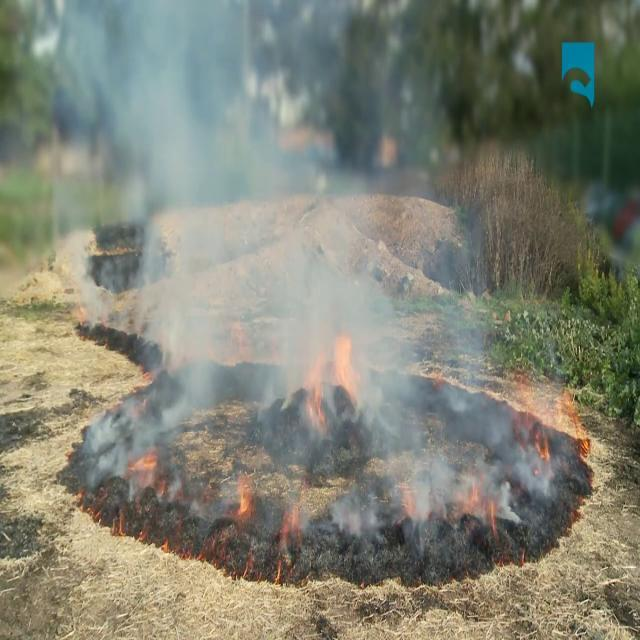Smoke: (48, 2, 522, 546)
